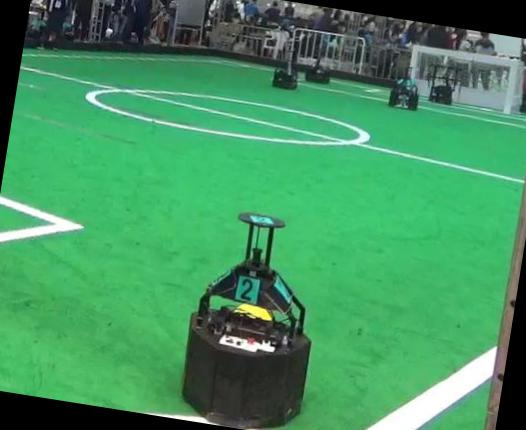goal: (502, 58, 519, 112)
robot: (182, 213, 310, 427), (428, 64, 459, 105), (388, 78, 419, 110), (272, 51, 297, 89), (305, 60, 330, 84)
